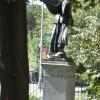Statue: (38, 2, 77, 71)
